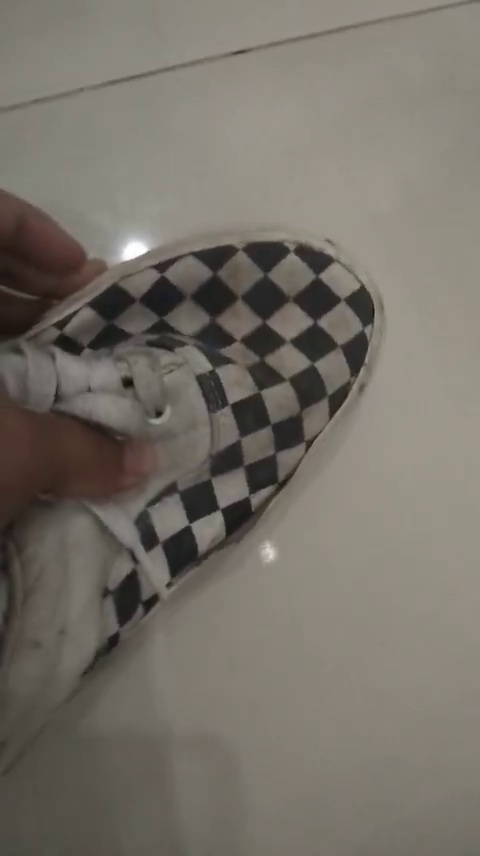bonding: (186, 482, 278, 575)
